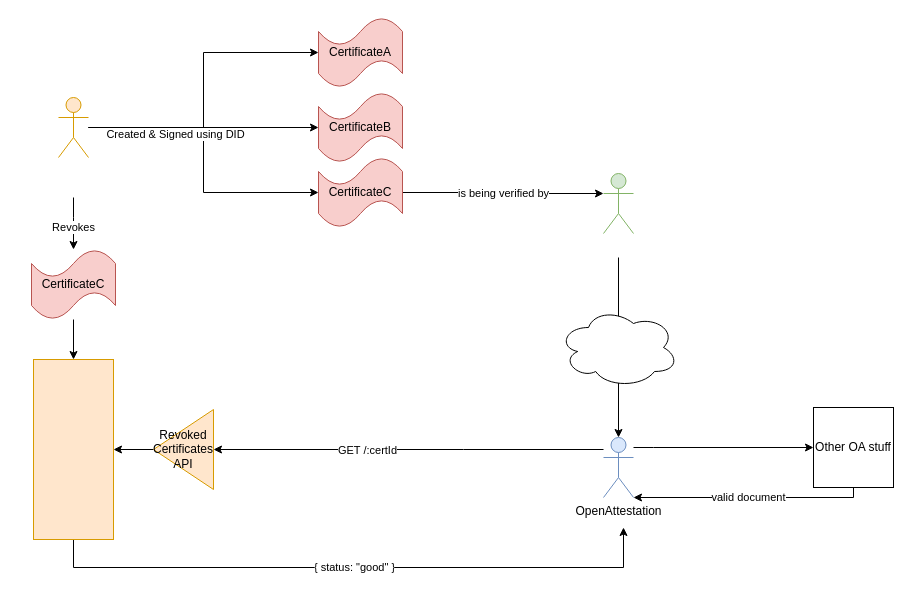
The diagram is 911 pixels wide and 593 high, and some of its shapes have lost their labels. The centre of each missing label's shape, as x and y in pixels:
Agency A (Certificate Authority): (73,127)
Agency B: (618,203)
Is this certificate legit?: (618,347)
Revoked Certificates Database: (73,449)
